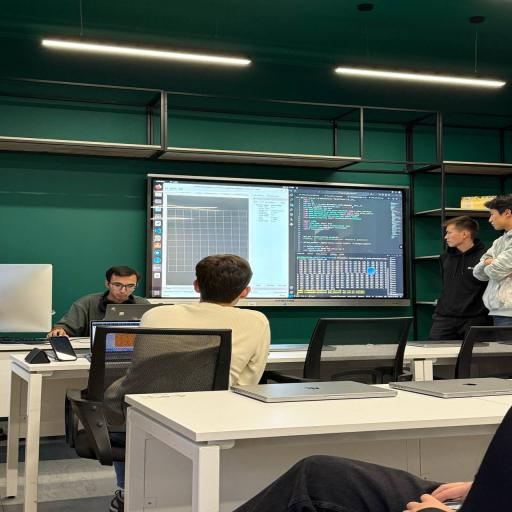bus: (260, 318, 412, 384)
glass_wall: (231, 382, 396, 403)
laptop: (428, 216, 489, 340), (47, 266, 149, 337)
stroller: (125, 391, 511, 511)
